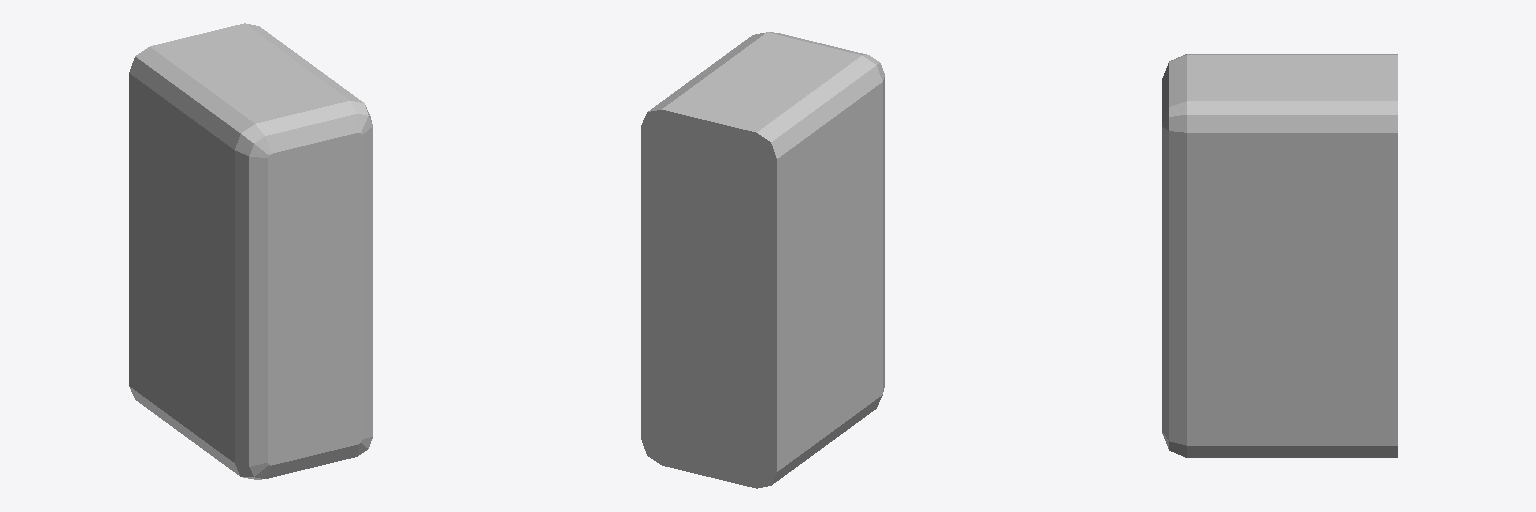
The model's file is 100_LongWall.obj.
3 renders of one model, left to right at view 1: azimuth 30°, elevation 25°; view 2: azimuth 150°, elevation 25°; view 3: azimuth 270°, elevation 25°, orthographic.
Parts seen in each view (by area): view 1: LongWall.001_Plane.865; view 2: LongWall.001_Plane.865; view 3: LongWall.001_Plane.865.
Boxes of the visible parts, box(x1,y1,x2,y2) form: LongWall.001_Plane.865: box(129, 23, 372, 479); LongWall.001_Plane.865: box(641, 32, 884, 488); LongWall.001_Plane.865: box(1162, 54, 1397, 457).
Bounding box in the file's own units: 2 × 5 × 3.